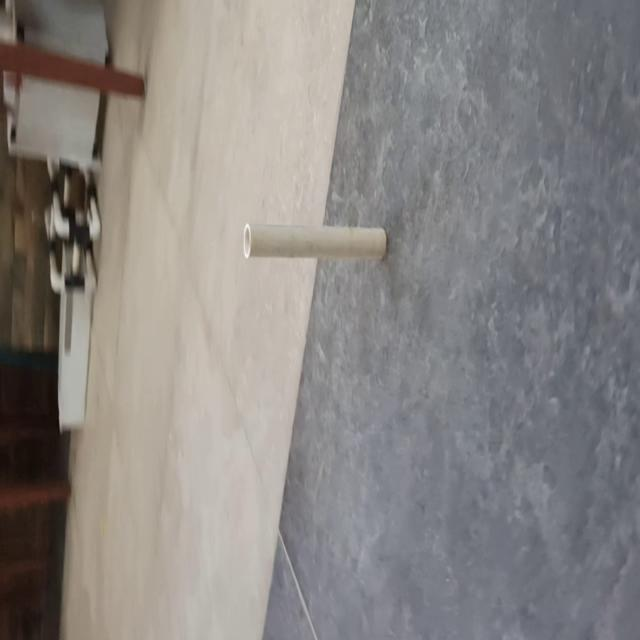Cube: (242, 221, 388, 263)
